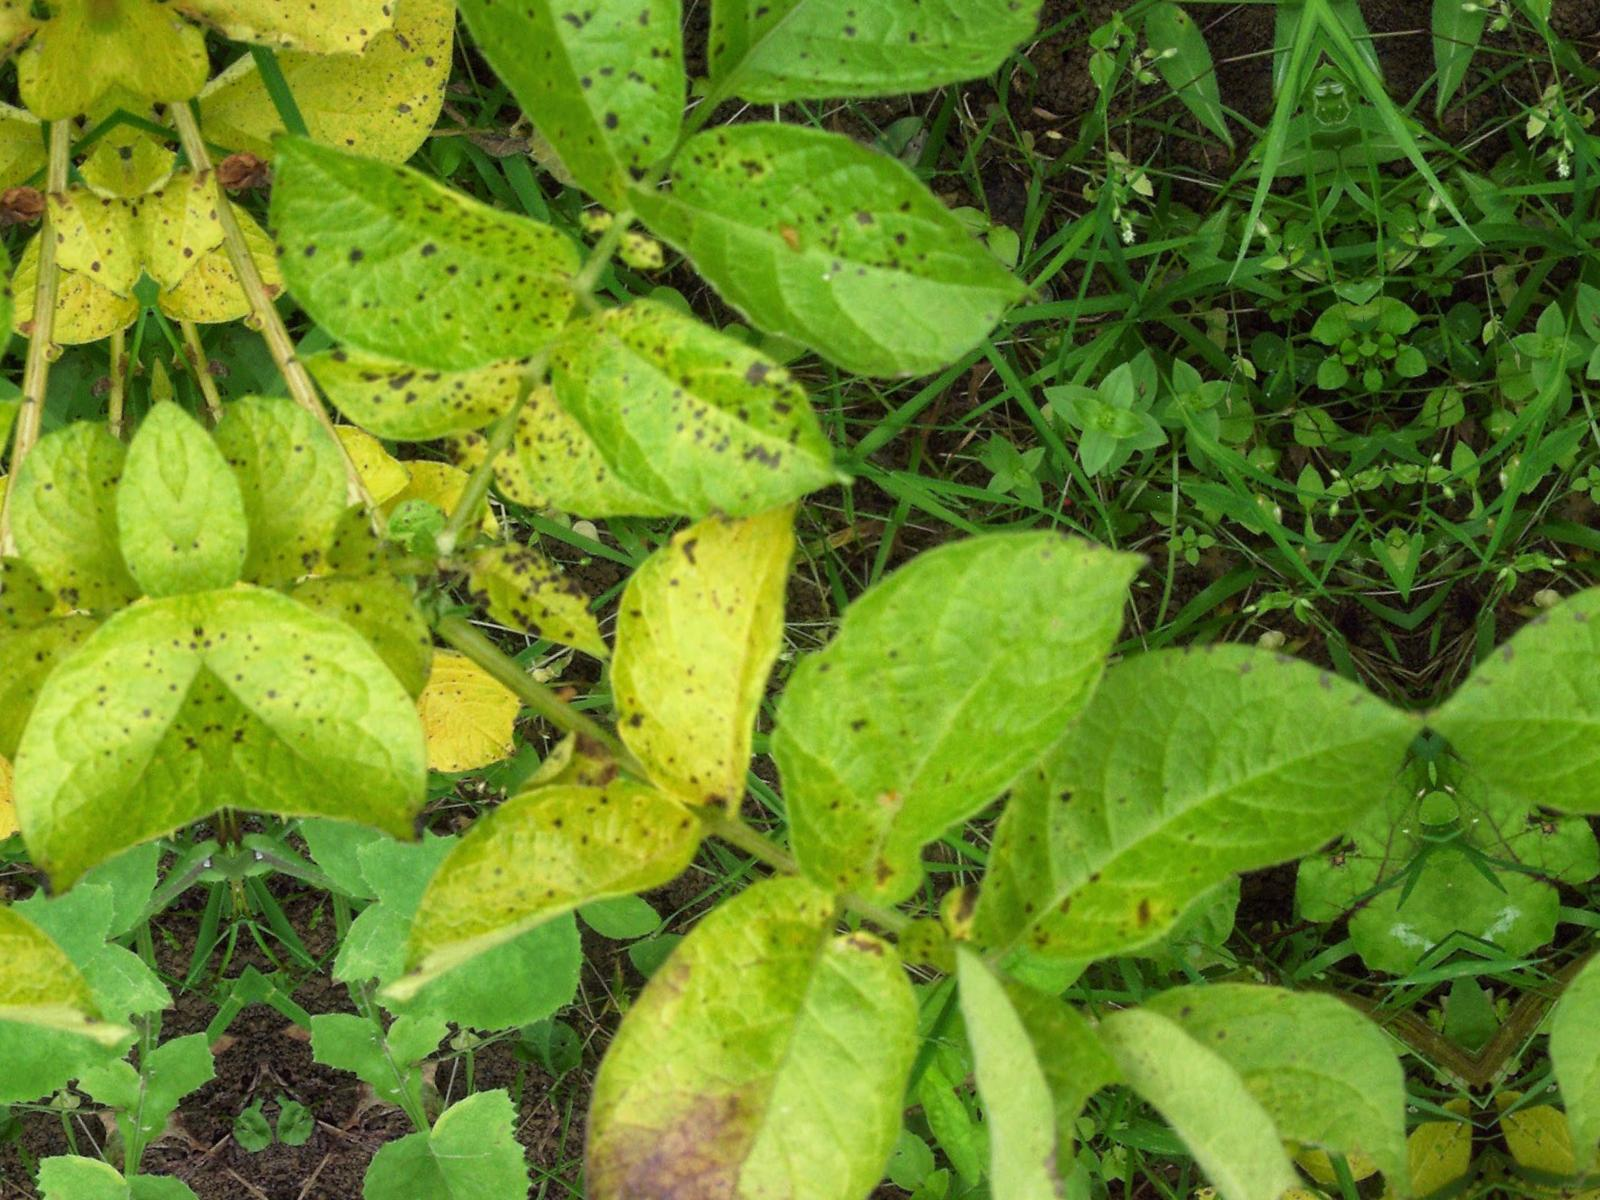Tomato Septoria leaf spot: (737, 485, 1209, 920), (598, 96, 1047, 439), (229, 103, 658, 416), (520, 267, 862, 536), (372, 753, 745, 991), (582, 474, 834, 816), (411, 0, 716, 218), (446, 503, 615, 691), (163, 0, 426, 87)
